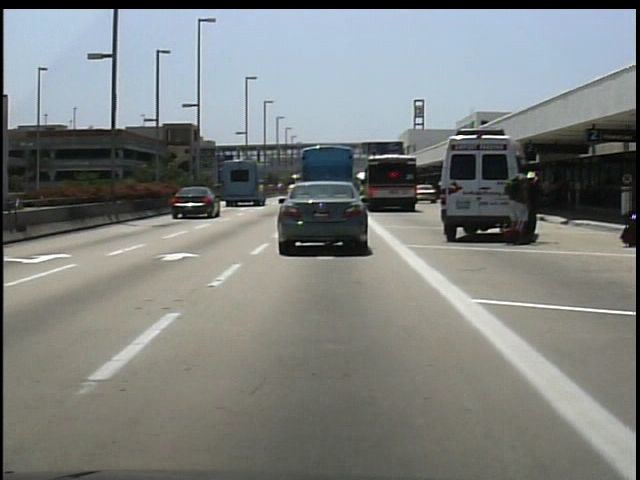person: (504, 162, 536, 244), (528, 171, 545, 245)
